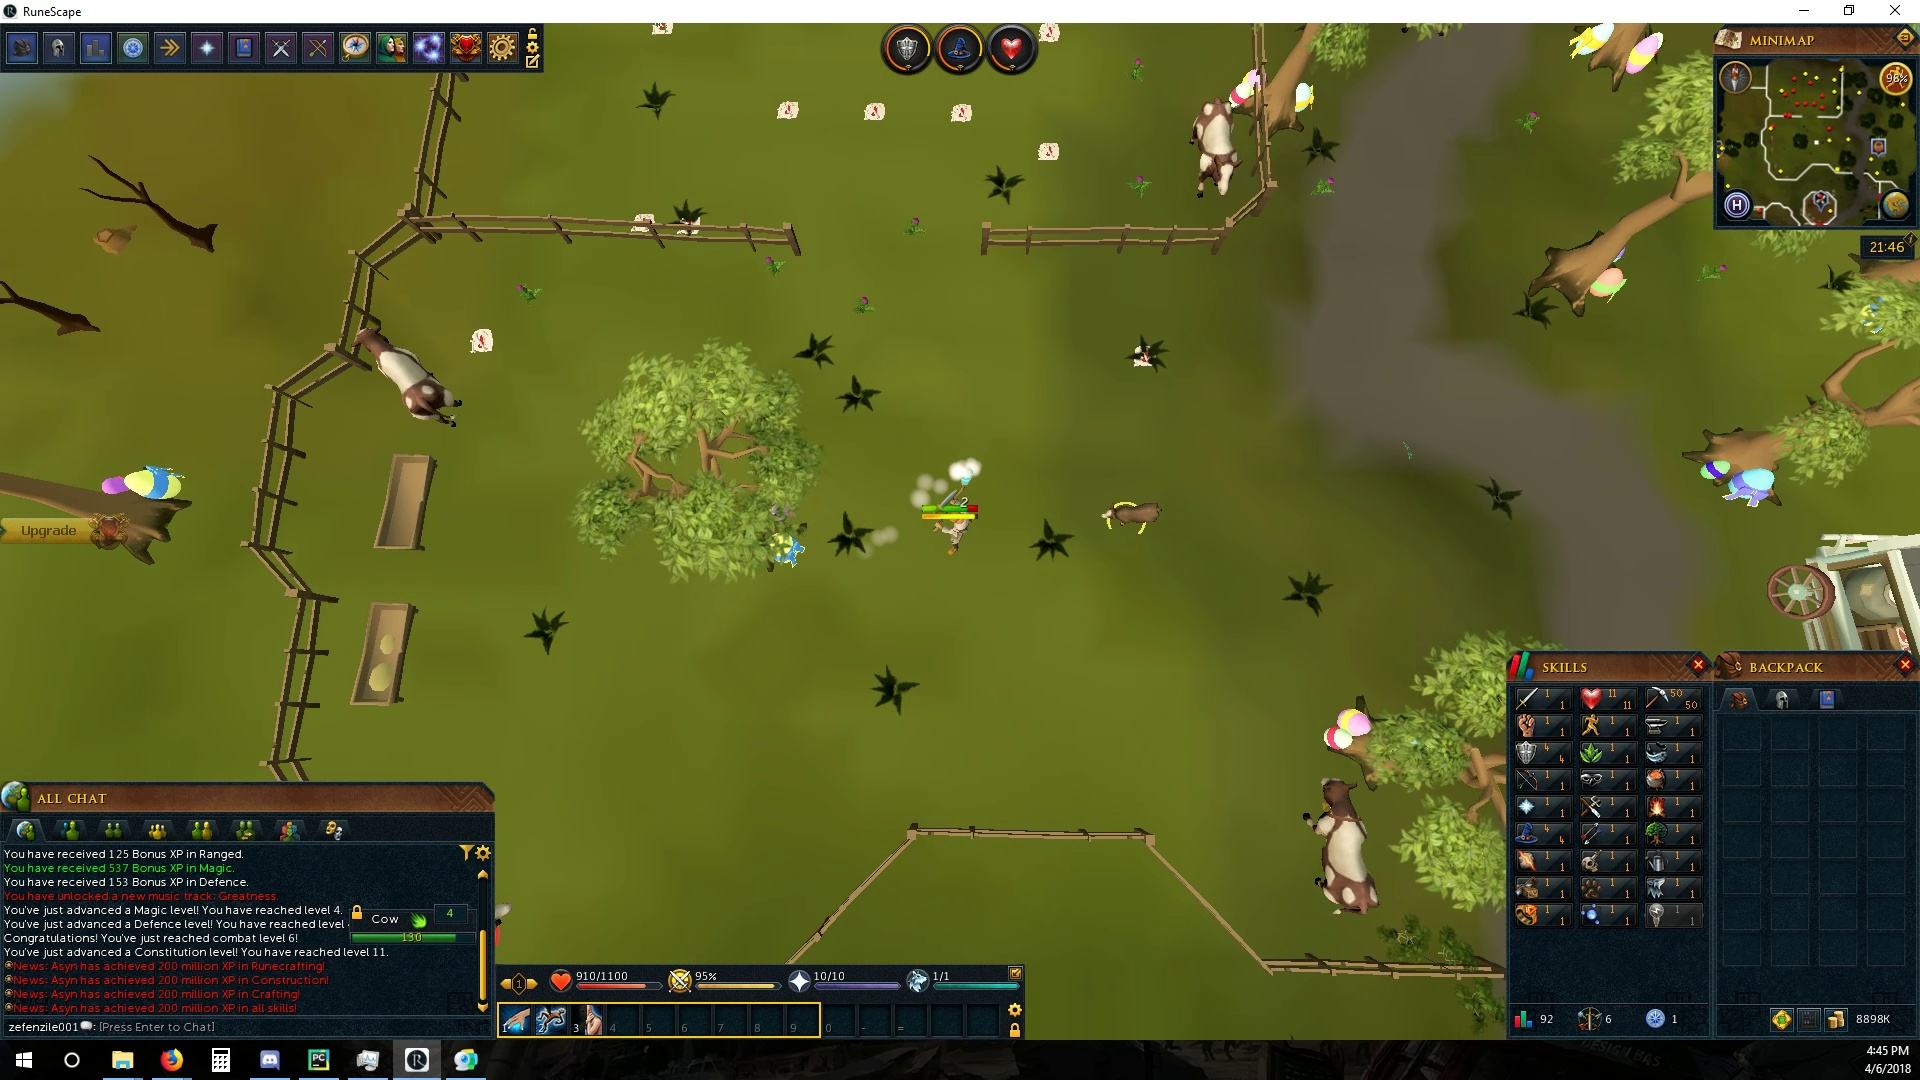calf: (1101, 500, 1166, 527)
cow: (344, 320, 462, 433), (1298, 774, 1385, 922), (1185, 98, 1245, 202)
cow_drop: (463, 323, 497, 353), (1033, 22, 1065, 47), (1031, 137, 1060, 164), (862, 98, 889, 123), (628, 212, 658, 232), (775, 98, 800, 117), (949, 103, 975, 121)
